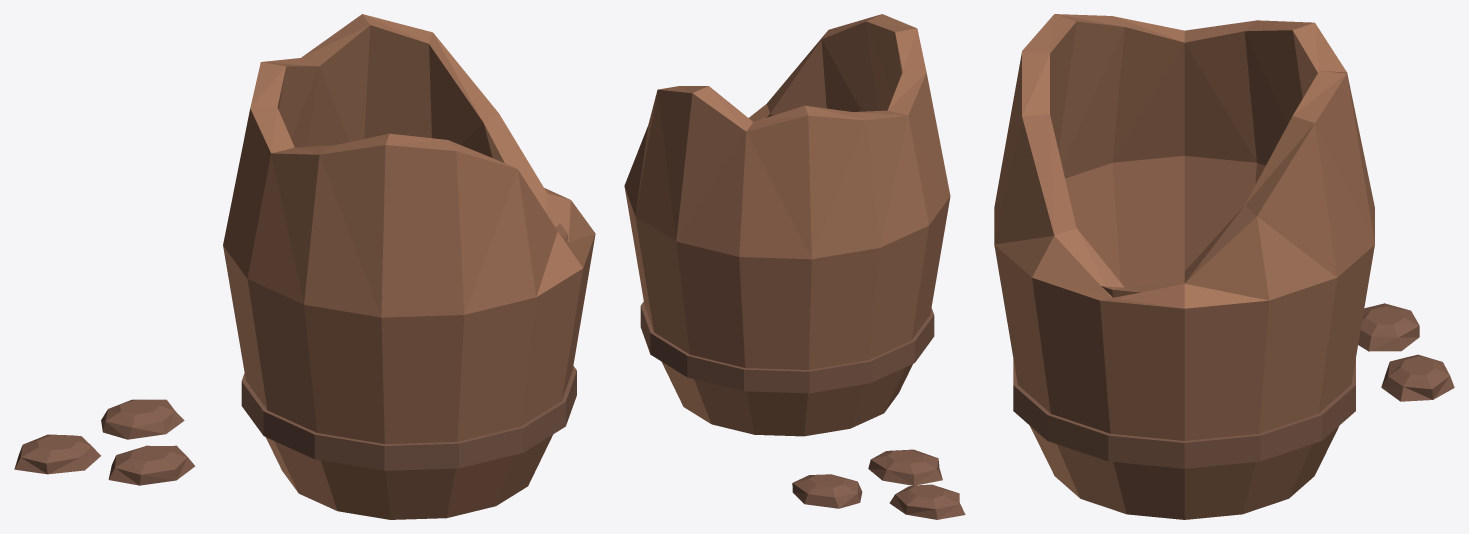
The model's file is DG_Urn_BrokenOpen.fbx.
3 views of the same model, side by side, from view 1: azimuth 30°, elevation 25°; view 2: azimuth 150°, elevation 25°; view 3: azimuth 270°, elevation 25° (orthographic). The views are drawn at different scales.
Visible parts, largest first — view 1: DG_Urn_BrokenOpen; view 2: DG_Urn_BrokenOpen; view 3: DG_Urn_BrokenOpen.
Boxes of the visible parts, x1=… form: DG_Urn_BrokenOpen: x1=14, y1=14, x2=595, y2=519; DG_Urn_BrokenOpen: x1=624, y1=14, x2=965, y2=519; DG_Urn_BrokenOpen: x1=994, y1=14, x2=1454, y2=519.
Size of the model in its own units: 1.17 by 0.94 by 0.9668.
